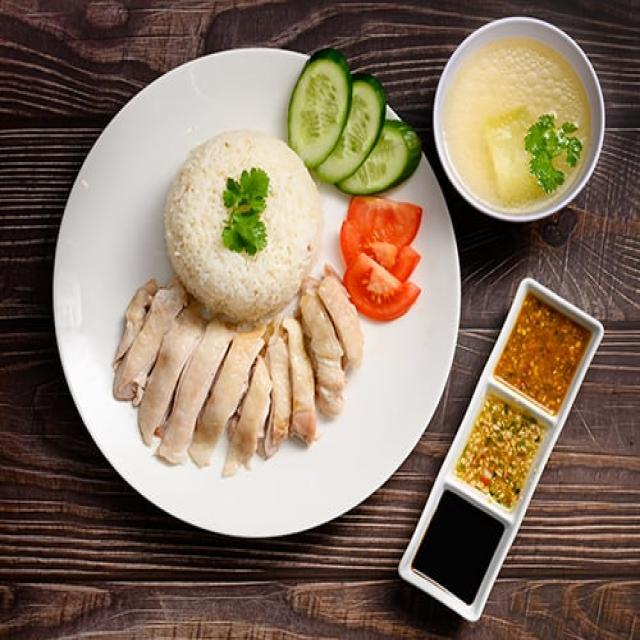Carbohydrate: (166, 127, 322, 321)
Kaow-Mankai: (51, 47, 460, 538)
Protein: (110, 270, 367, 478)
Vegetable: (286, 50, 423, 321)
